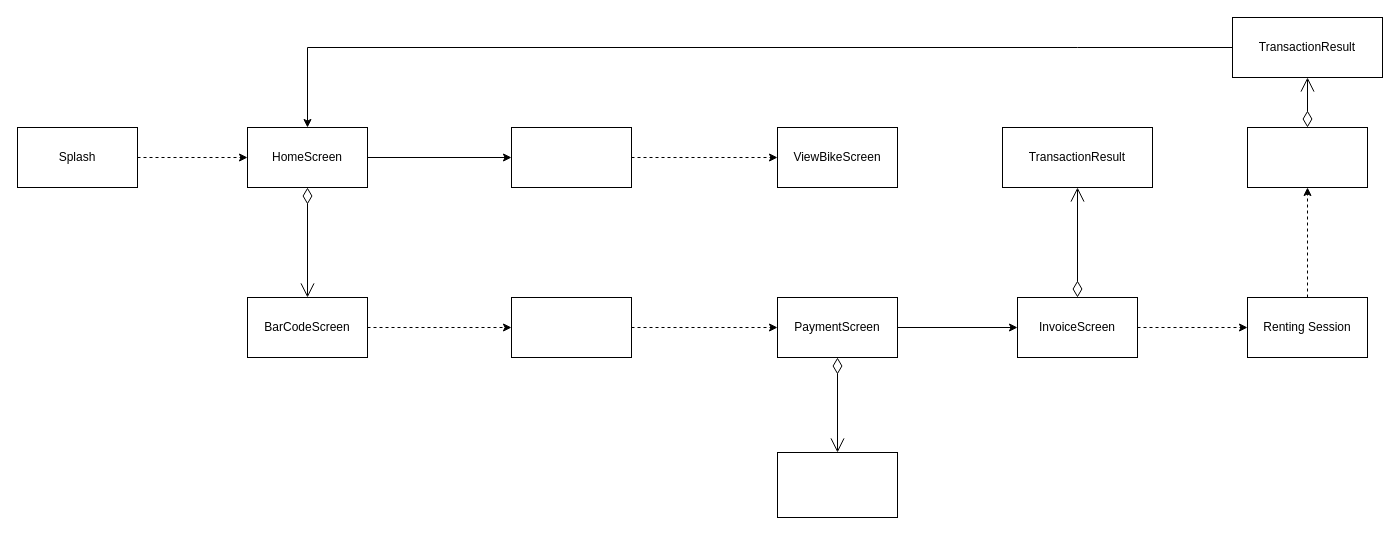
Image size: 1400x535. Some labels were removed from this diagram. Here are the shapes that lost their labels. From the top down, the centre of each, then its label:
(571,157): ViewDockScreen
(1307,157): ReturnBikeScreen
(571,327): RentBikeScreen
(837,485): ErrorMessage
